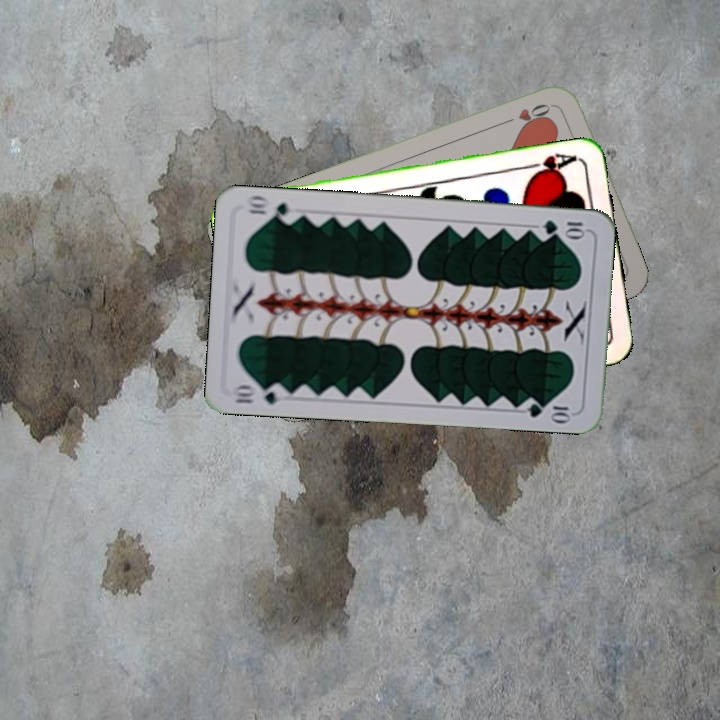G10: (230, 380, 289, 407), (539, 216, 589, 239)
HA: (521, 149, 580, 180)
HO: (502, 99, 560, 132)
